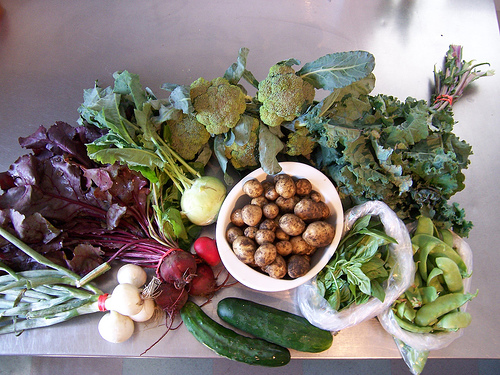cucumber: (179, 298, 292, 366), (216, 295, 335, 355)
